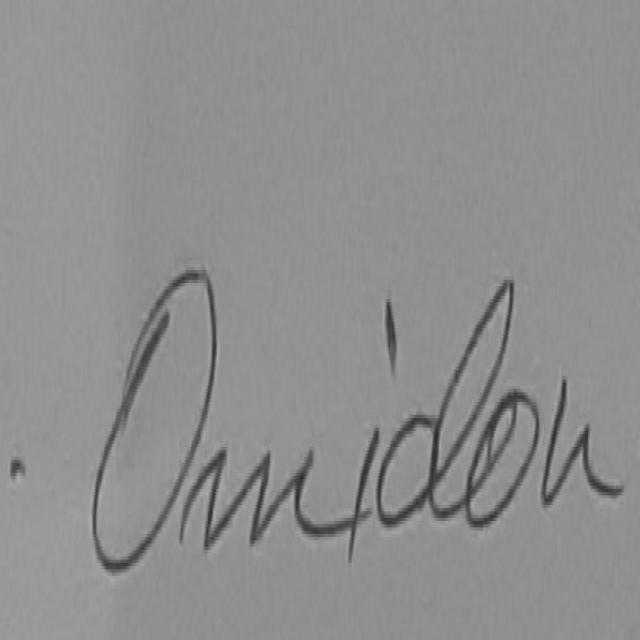O: (65, 181, 264, 621)
d: (361, 231, 549, 575)
i: (335, 268, 425, 584)
m: (146, 409, 349, 609)
n: (522, 357, 632, 537)
o: (444, 360, 553, 571)
